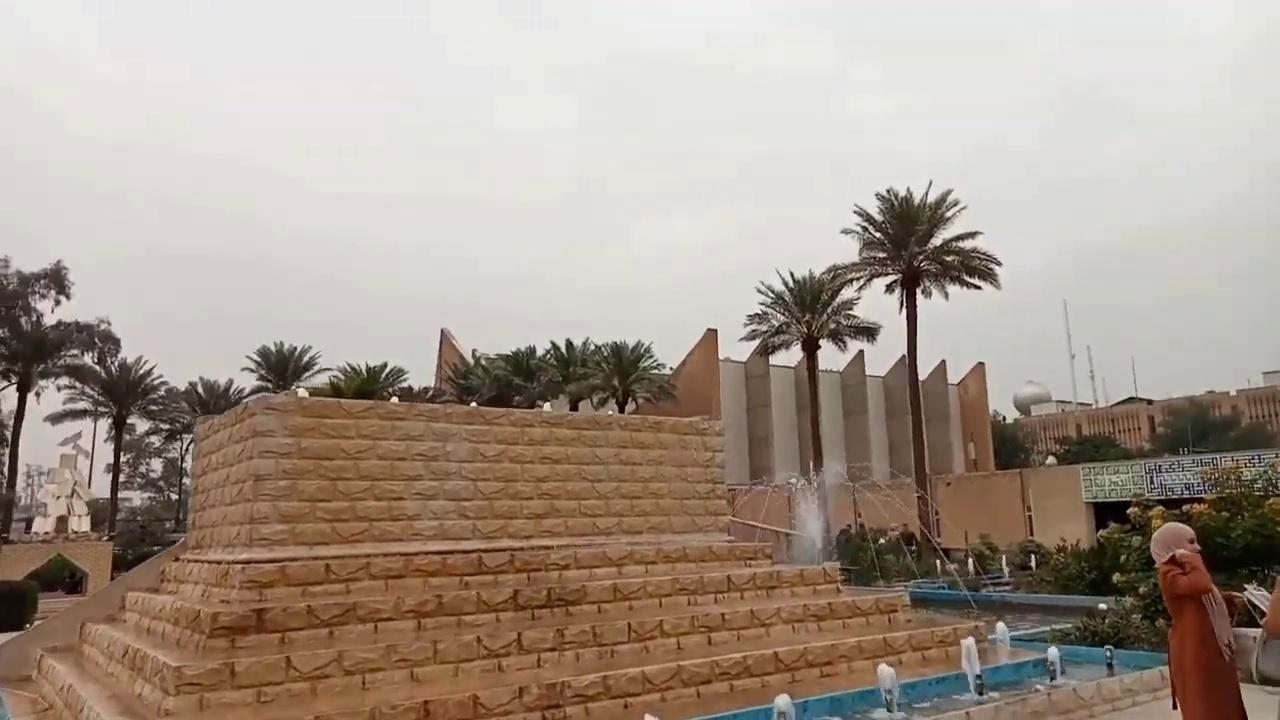fountain: (684, 461, 1272, 717), (787, 461, 1116, 617), (683, 624, 1171, 718), (783, 463, 830, 565), (960, 635, 985, 698), (876, 661, 899, 713), (1046, 642, 1064, 680), (773, 693, 795, 719), (994, 619, 1010, 648)
person: (1149, 521, 1248, 719), (1259, 576, 1279, 640), (61, 572, 81, 594)
tree: (822, 178, 1003, 575), (0, 252, 117, 540), (737, 265, 882, 480), (44, 350, 169, 540), (440, 335, 677, 412), (142, 375, 245, 532), (142, 382, 195, 532), (587, 338, 677, 413), (240, 339, 328, 395), (541, 336, 601, 411), (491, 343, 550, 408), (325, 359, 409, 399), (440, 348, 491, 404), (182, 375, 245, 417)
